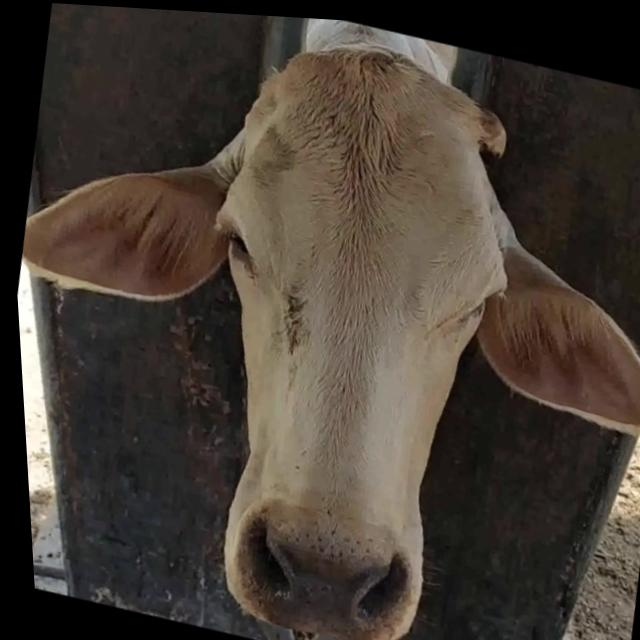cowFace: (141, 18, 547, 640)
